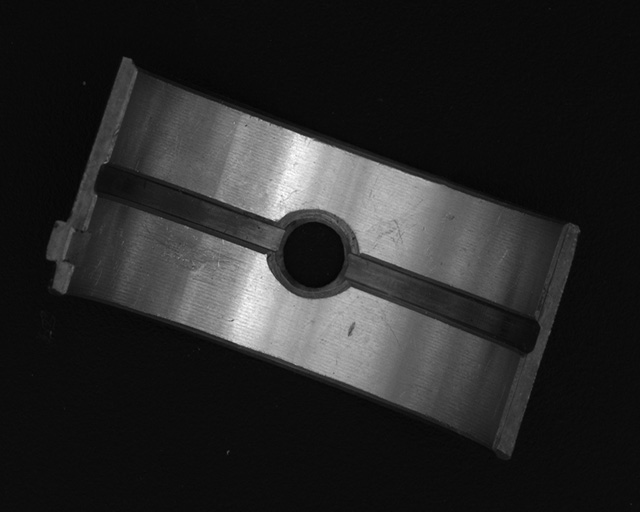bruise: (346, 321, 356, 339)
gap: (347, 254, 536, 355), (95, 163, 281, 249)
hole: (272, 211, 355, 297)
scratch: (136, 221, 246, 275)
